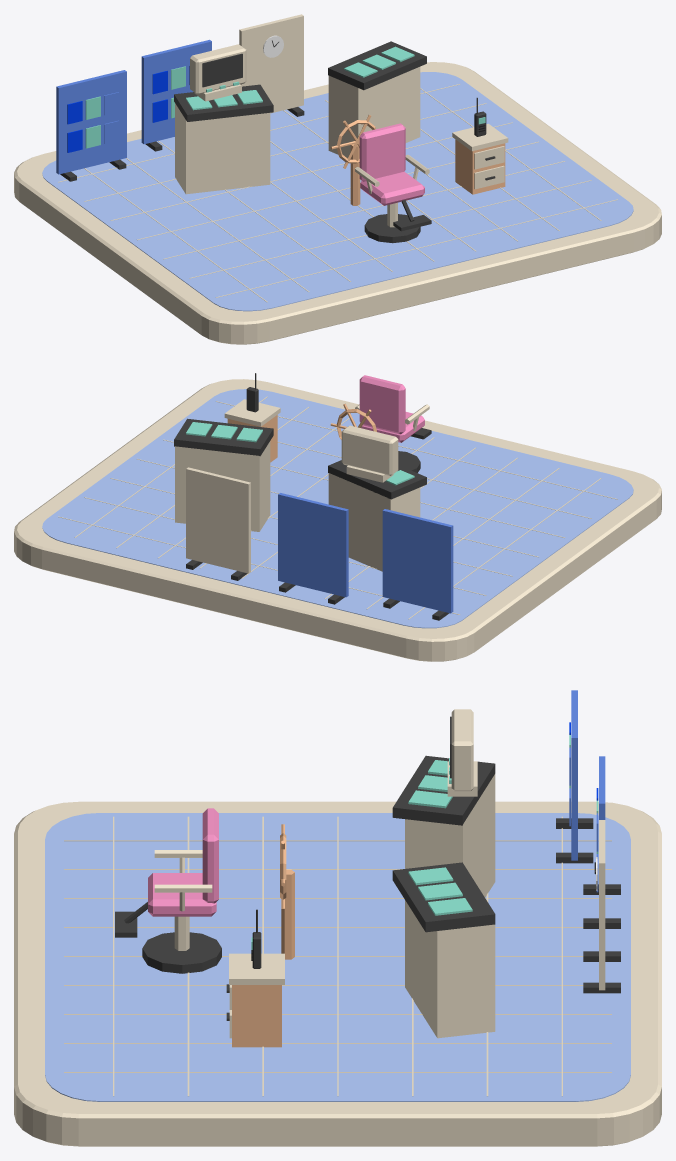
The picture shows the model from 3 angles, top to bottom: view 1: azimuth 30°, elevation 25°; view 2: azimuth 150°, elevation 25°; view 3: azimuth 270°, elevation 25°; orthographic projection. The views are drawn at different scales.
Parts seen in each view (by area): view 1: COM-02 Floor Surface, COM-01 Rounded Base Direct, Console, Console.001, Panel.002, Panel.004, Panel.003, Back, Panel.001, Panel, Seat, Body (+8 smaller); view 2: COM-02 Floor Surface, COM-01 Rounded Base Direct, Panel.002, Panel.003, Panel.004, Console, Console.001, Housing, Back, Panel.001, Panel, Top (+2 smaller); view 3: COM-02 Floor Surface, COM-01 Rounded Base Direct, Console.001, Console, Panel.001, Body, Panel, Base, Seat, Housing, Top, Back (+4 smaller).
Part boxes in pixels (left/top/right/bottom): COM-02 Floor Surface: left=42, top=72, right=633, bottom=311; COM-01 Rounded Base Direct: left=14, top=62, right=661, bottom=344; Console: left=175, top=103, right=270, bottom=194; Console.001: left=328, top=67, right=420, bottom=159; Panel.002: left=56, top=70, right=126, bottom=174; Panel.004: left=239, top=14, right=303, bottom=113; Panel.003: left=141, top=39, right=211, bottom=144; Back: left=359, top=123, right=405, bottom=181; Panel.001: left=328, top=41, right=426, bottom=90; Panel: left=174, top=84, right=273, bottom=121; Seat: left=360, top=171, right=424, bottom=205; Body: left=455, top=139, right=505, bottom=194; COM-02 Floor Surface: left=42, top=389, right=633, bottom=628; COM-01 Rounded Base Direct: left=14, top=379, right=661, bottom=661; Panel.002: left=382, top=509, right=453, bottom=613; Panel.003: left=278, top=493, right=348, bottom=597; Panel.004: left=186, top=467, right=250, bottom=573; Console: left=328, top=473, right=420, bottom=571; Console.001: left=175, top=441, right=270, bottom=531; Housing: left=341, top=425, right=398, bottom=475; Back: left=359, top=375, right=405, bottom=434; Panel.001: left=174, top=418, right=273, bottom=456; Panel: left=328, top=460, right=426, bottom=499; Top: left=224, top=399, right=280, bottom=426; COM-02 Floor Surface: left=45, top=813, right=630, bottom=1101; COM-01 Rounded Base Direct: left=14, top=801, right=661, bottom=1146; Console.001: left=405, top=900, right=495, bottom=1038; Console: left=405, top=774, right=495, bottom=897; Panel.001: left=392, top=862, right=495, bottom=932; Body: left=232, top=985, right=281, bottom=1047; Panel: left=392, top=755, right=495, bottom=825; Base: left=142, top=932, right=221, bottom=973; Seat: left=148, top=873, right=216, bottom=916; Housing: left=451, top=709, right=473, bottom=791; Top: left=229, top=953, right=284, bottom=984; Back: left=202, top=808, right=218, bottom=903.
Bounding box in the file's own units: 6 × 1.88 × 5.2.
Materials: 1 (1 with a texture image).
